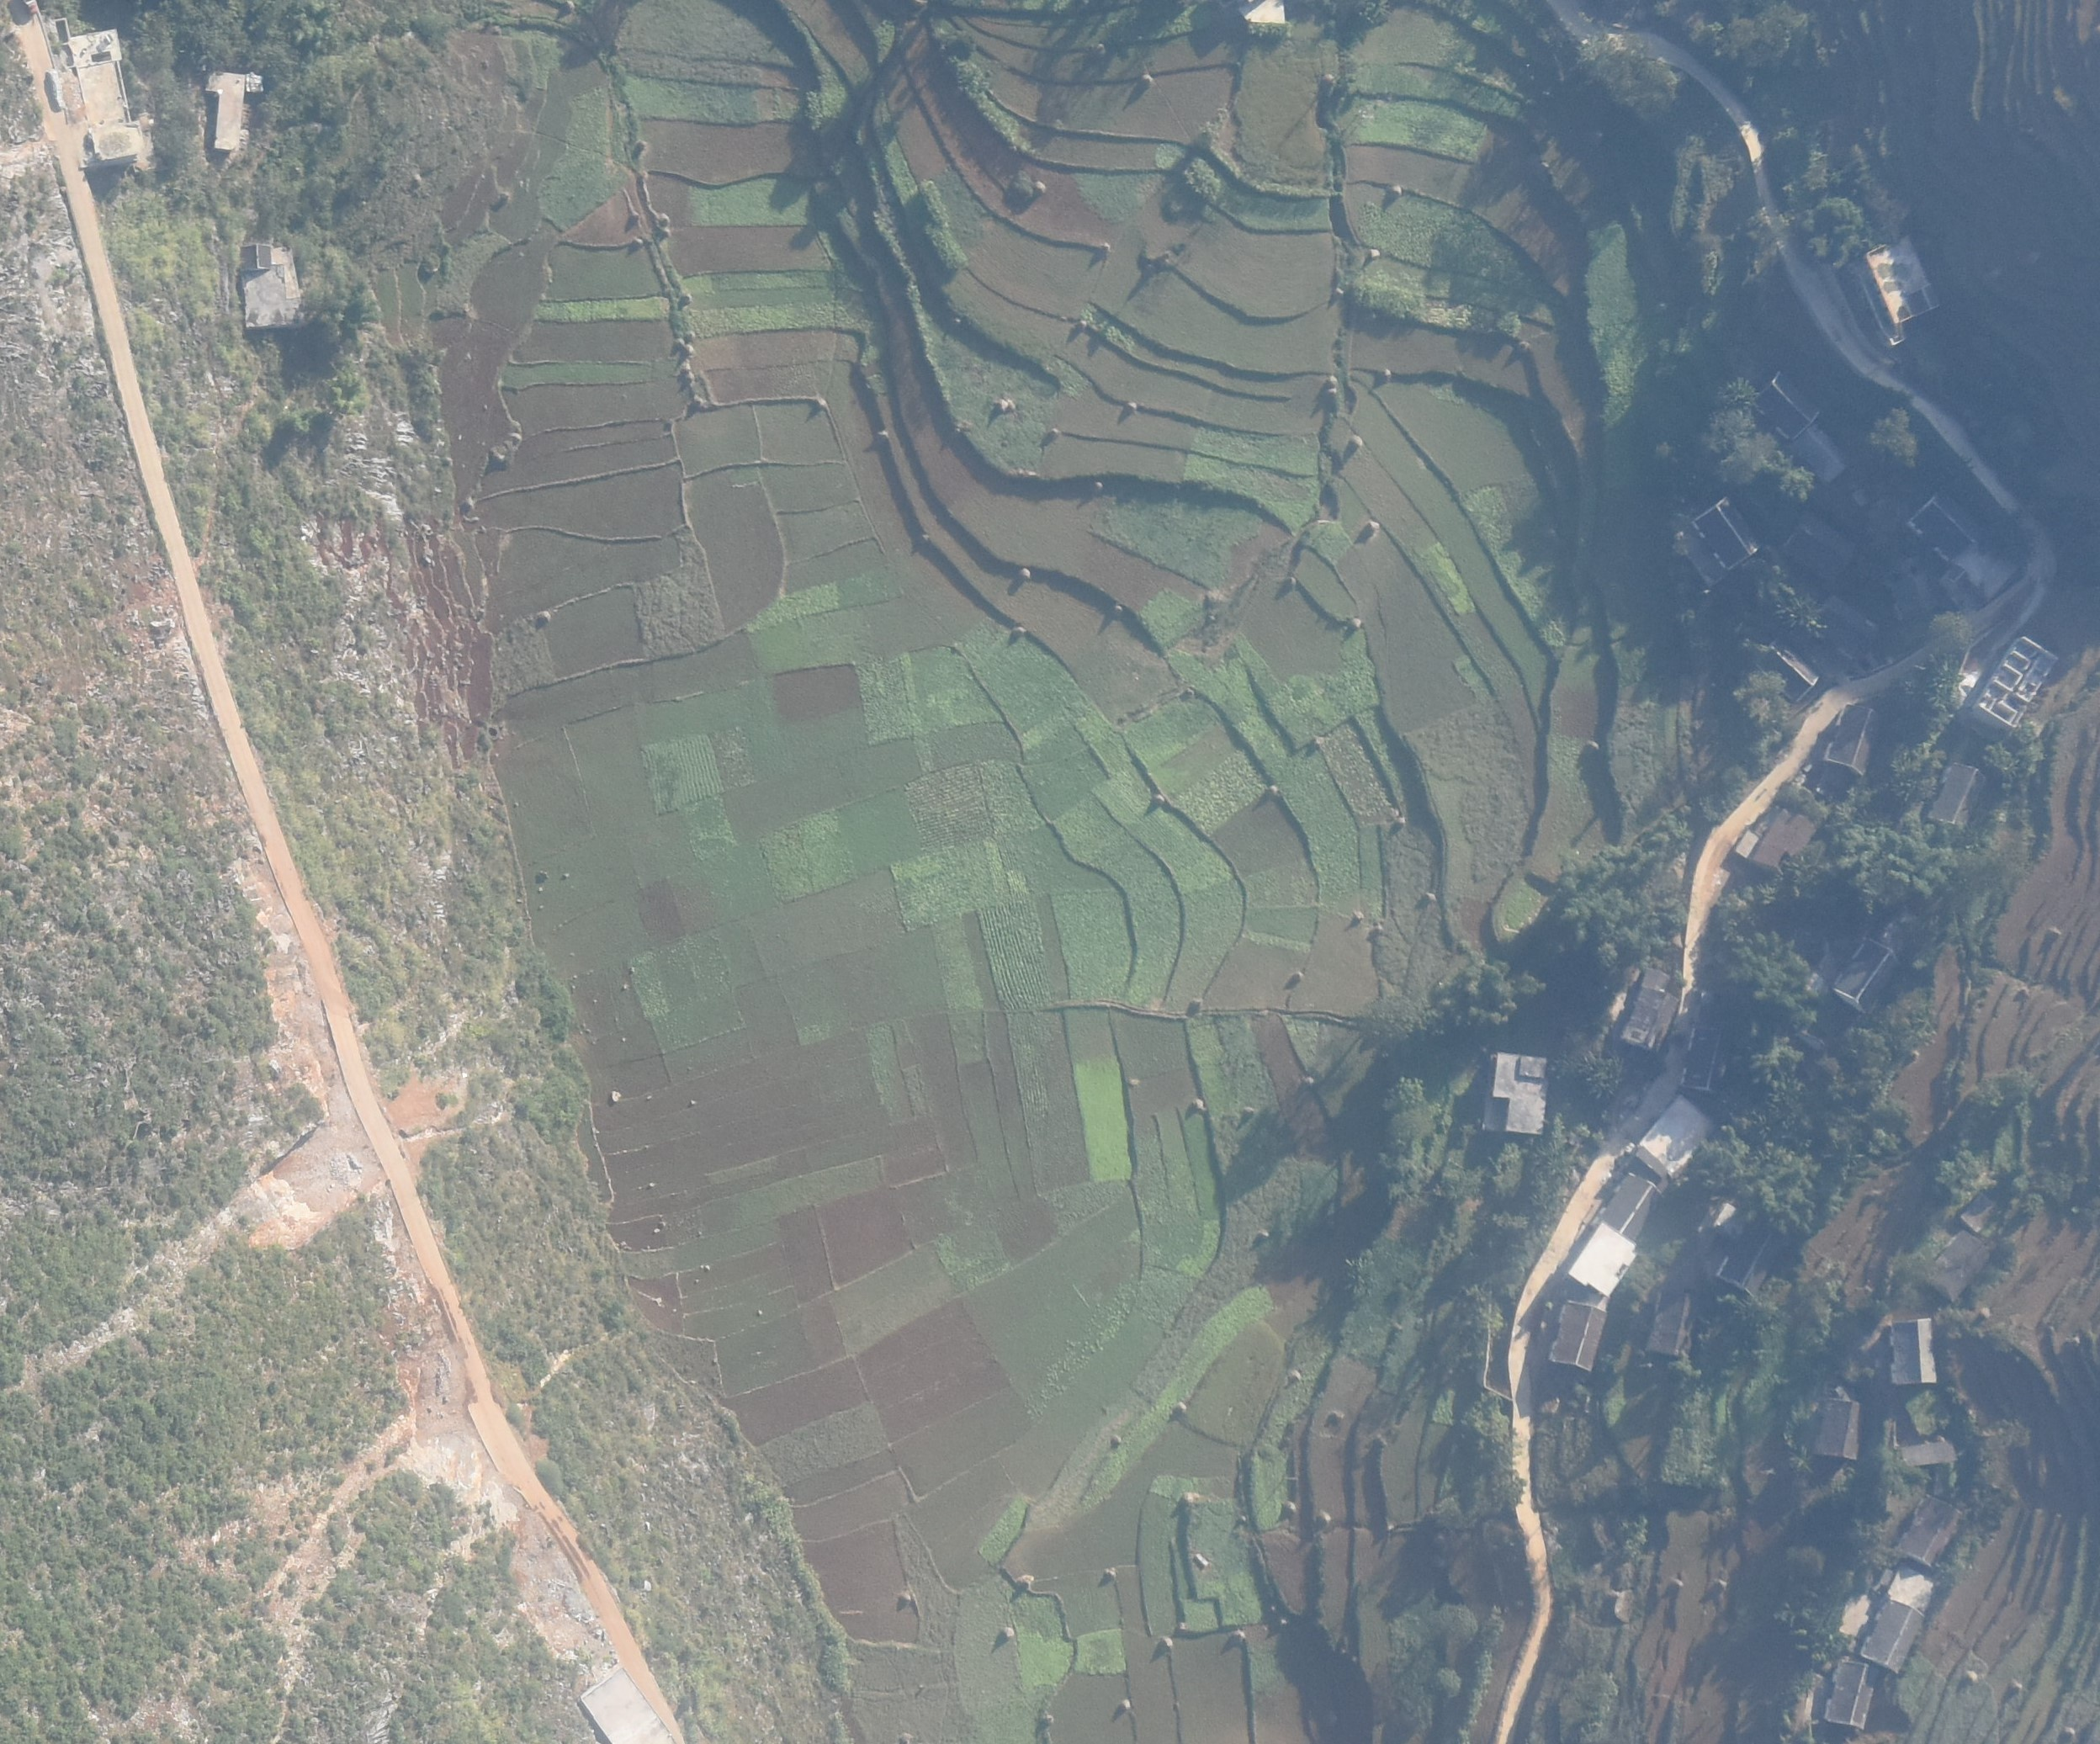building: (64, 22, 148, 165), (1864, 235, 1940, 342), (1974, 636, 2057, 728), (1716, 1201, 1788, 1297), (1636, 1093, 1715, 1179), (1735, 805, 1816, 877), (236, 244, 302, 328), (1807, 596, 1885, 665), (1781, 515, 1853, 585), (1570, 1222, 1636, 1297), (1859, 1601, 1927, 1673), (1912, 490, 1980, 563), (1487, 1051, 1546, 1134), (1834, 936, 1898, 1013), (1900, 1493, 1965, 1566), (1693, 499, 1758, 572), (1623, 967, 1678, 1051), (1755, 372, 1820, 442), (1927, 1228, 1990, 1298), (1826, 701, 1882, 775), (1754, 641, 1818, 706), (1548, 1300, 1604, 1373), (1605, 1171, 1663, 1238), (1824, 1658, 1876, 1733), (1932, 763, 1985, 830), (1890, 1317, 1939, 1384), (1648, 1291, 1698, 1355), (1816, 1397, 1865, 1462), (1795, 423, 1845, 485), (205, 73, 243, 150), (1684, 1024, 1730, 1087), (1960, 1195, 2002, 1234)
